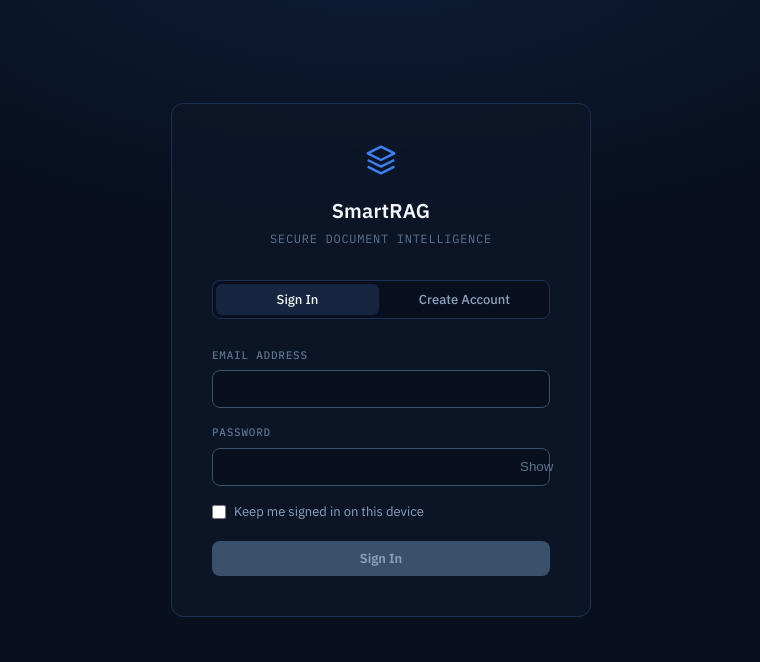
Scenario: authentication › shows the server's error message when sign-in fails
The width and height of the screenshot is (760, 662).
In the field labelled "Email address": (381,389) [212,370,550,408], type "me@x.y"
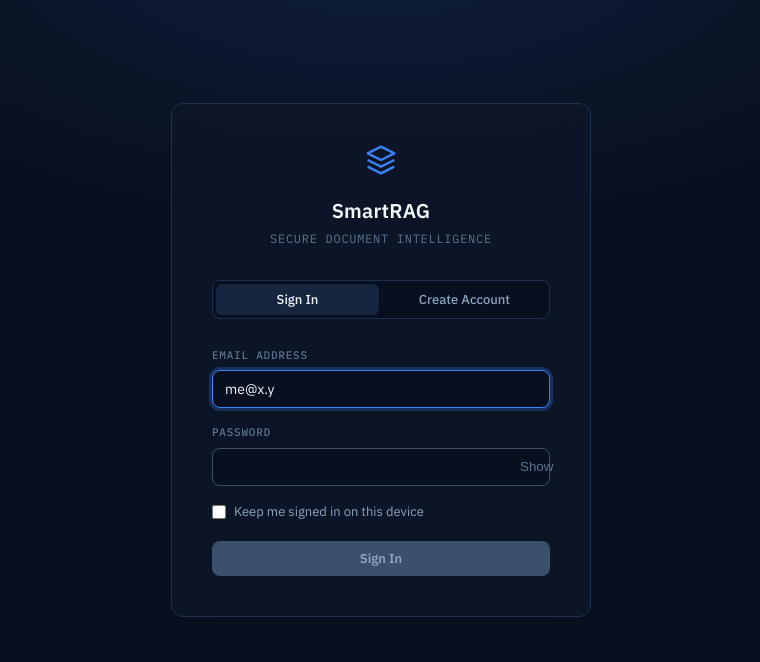
In the password field labelled "Password": (381,467) [212,448,550,486], type "wrongwrong"
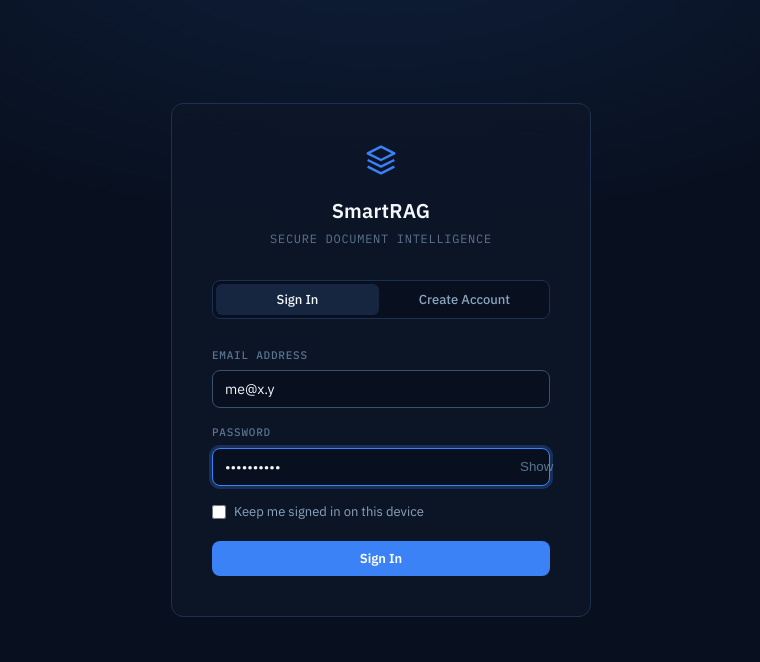
Click the 2nd button "Sign In": (381,559) [212,541,550,576]
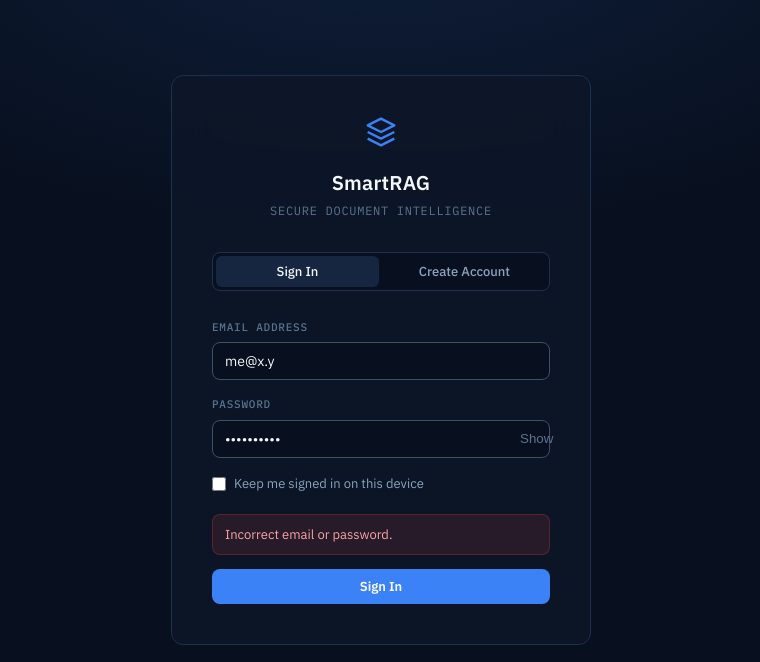
Expected: the message reads "Incorrect email or password.", [225,526,392,542]
